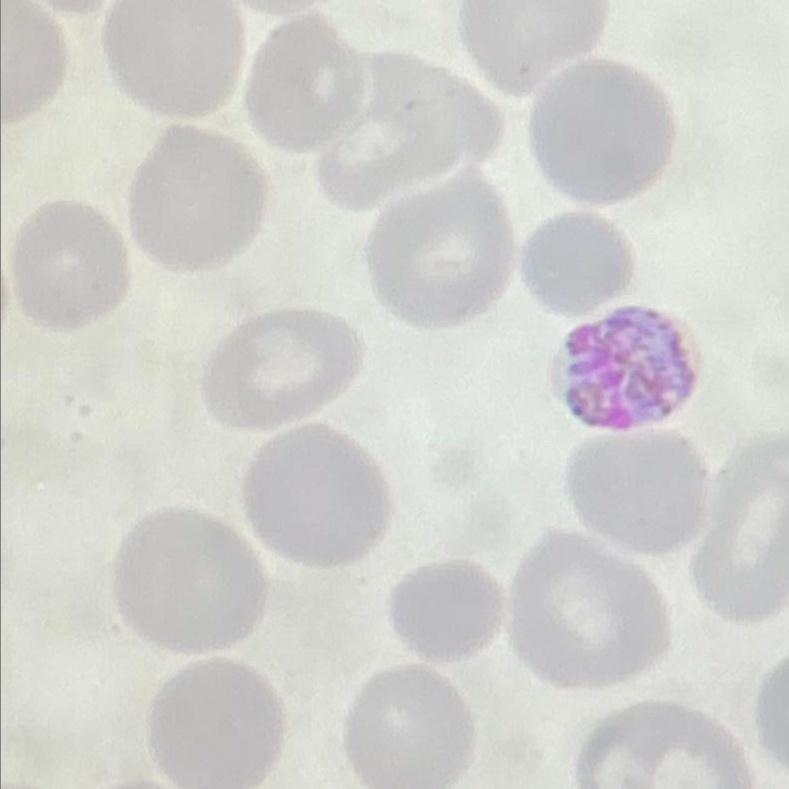Infected: (546, 305, 702, 433)
Uninfected: (498, 533, 674, 684), (366, 159, 514, 329), (116, 507, 263, 652), (242, 425, 386, 570), (534, 51, 671, 202), (124, 125, 271, 264), (346, 53, 498, 178), (202, 313, 367, 426), (102, 0, 257, 118), (144, 657, 279, 789), (692, 433, 789, 614), (562, 433, 707, 553), (346, 663, 482, 789), (10, 201, 133, 334), (246, 15, 358, 160), (462, 0, 613, 95), (318, 109, 455, 204), (520, 209, 643, 309), (390, 555, 495, 654)
